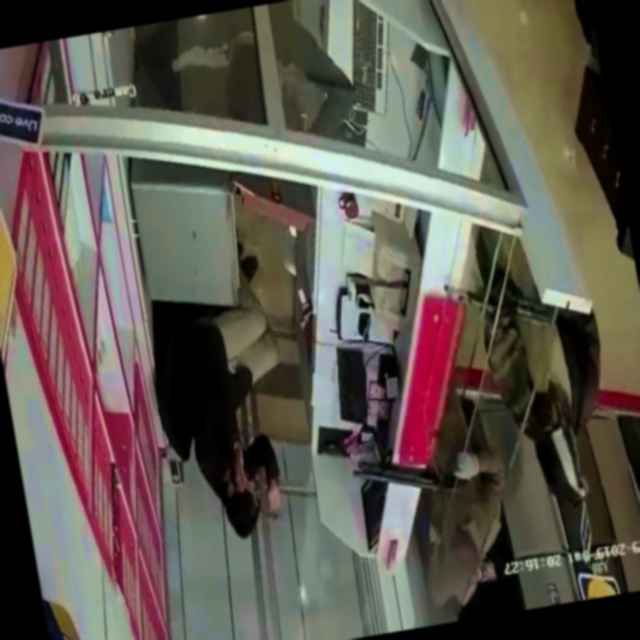gun: (348, 437, 476, 522), (440, 270, 552, 346)
